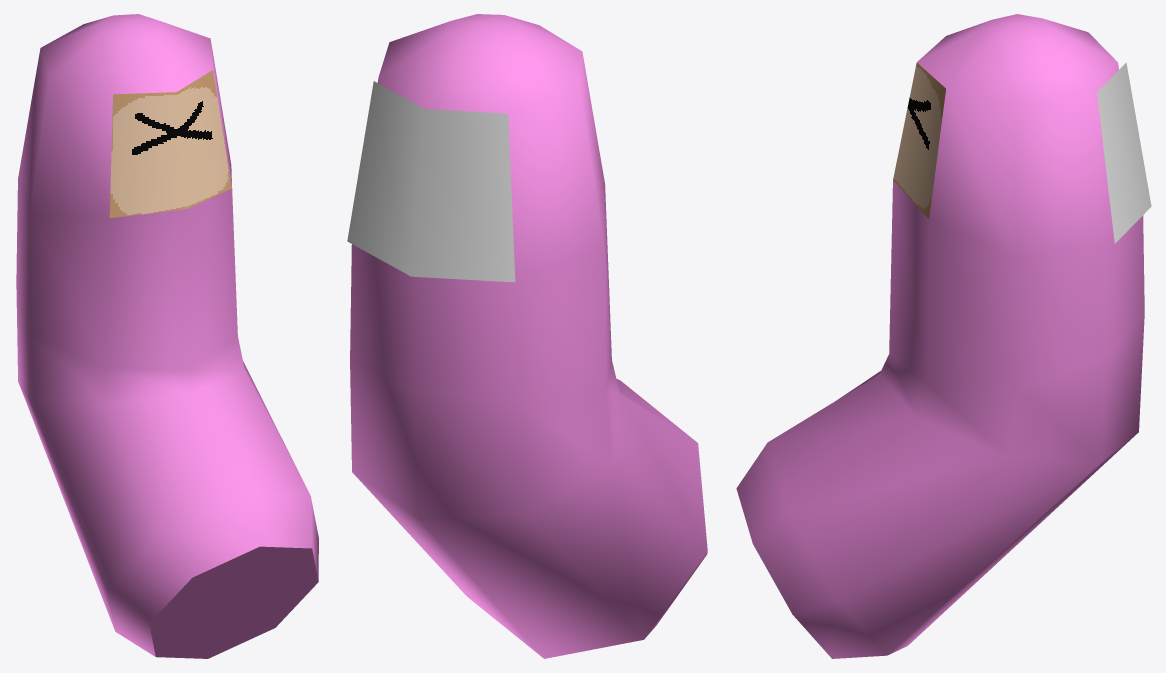
Rendered from OTA_D_06.glb.
3 renders of one model, left to right at view 1: azimuth 30°, elevation 25°; view 2: azimuth 150°, elevation 25°; view 3: azimuth 270°, elevation 25°, orthographic. The views are drawn at different scales.
Visible parts, largest first — view 1: FRAME_ROOT; view 2: FRAME_ROOT; view 3: FRAME_ROOT.
Boxes of the visible parts, bbox=[...] form: FRAME_ROOT: bbox=[16, 14, 318, 658]; FRAME_ROOT: bbox=[347, 14, 707, 658]; FRAME_ROOT: bbox=[736, 14, 1151, 658].
Size of the model in its own units: 1.28 by 3.35 by 2.01.
Materials: 3 (3 with a texture image).
